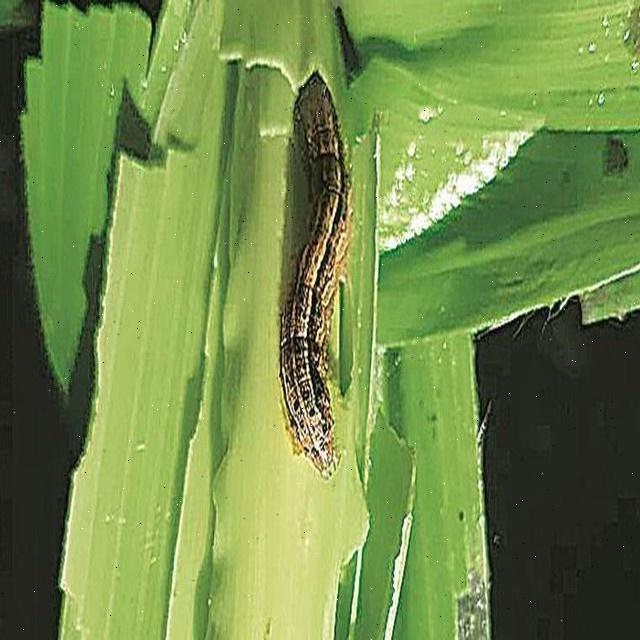worm: (279, 70, 357, 481)
